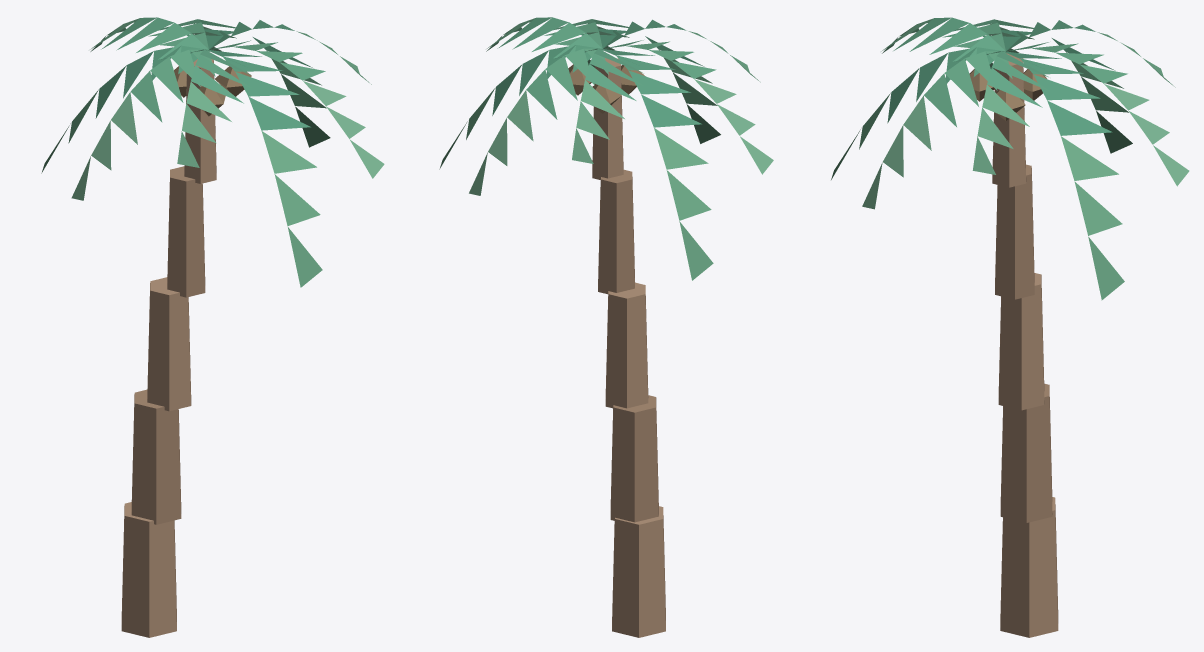
File: palm_tree.glb
3 renders of one model, left to right at view 1: azimuth 30°, elevation 25°; view 2: azimuth 150°, elevation 25°; view 3: azimuth 270°, elevation 25°, orthographic. The views are drawn at different scales.
Bounding box in the file's own units: 2.72 × 4.85 × 2.78.
